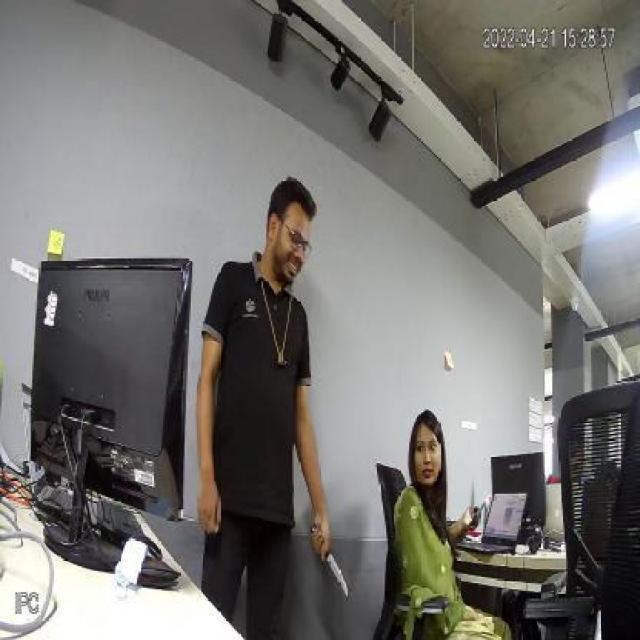-: (308, 519, 352, 606)
